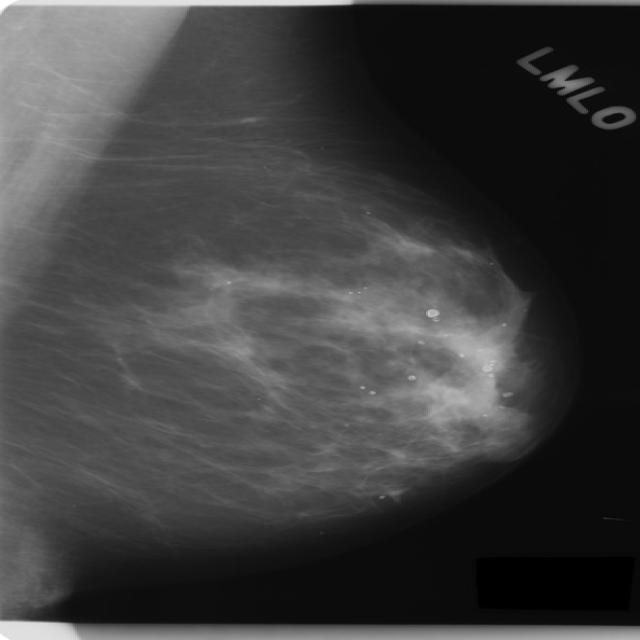tumour: (382, 309, 426, 343)
